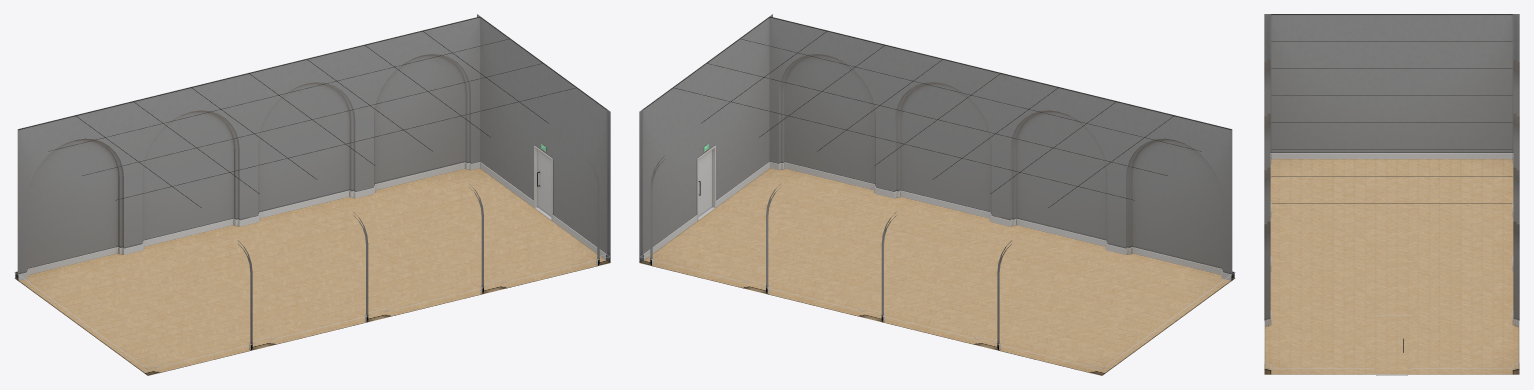
File: museum_compressed.glb
The picture shows the model from 3 angles, left to right: view 1: azimuth 30°, elevation 25°; view 2: azimuth 150°, elevation 25°; view 3: azimuth 270°, elevation 25°; orthographic projection. The views are drawn at different scales.
Visible parts, largest first — view 1: VR Gallery, ceiling; view 2: VR Gallery, ceiling; view 3: VR Gallery, ceiling.
Part boxes in pixels (bbox=[...]): VR Gallery: bbox=[14, 14, 610, 375]; ceiling: bbox=[48, 31, 576, 207]; VR Gallery: bbox=[639, 14, 1235, 375]; ceiling: bbox=[673, 31, 1201, 207]; VR Gallery: bbox=[1264, 14, 1519, 375]; ceiling: bbox=[1271, 41, 1512, 203].
Size of the model in its own units: 16.09 by 5 by 8.
Materials: 1 (1 with a texture image).
